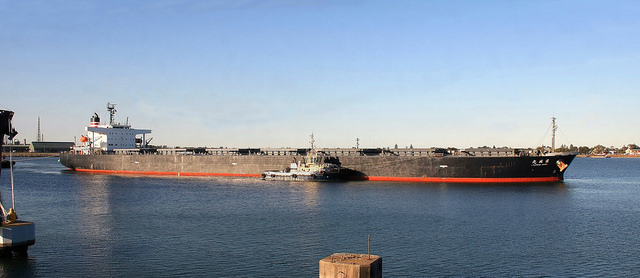bulk carrier: (60, 102, 573, 186)
tug_boat: (261, 135, 339, 184)
